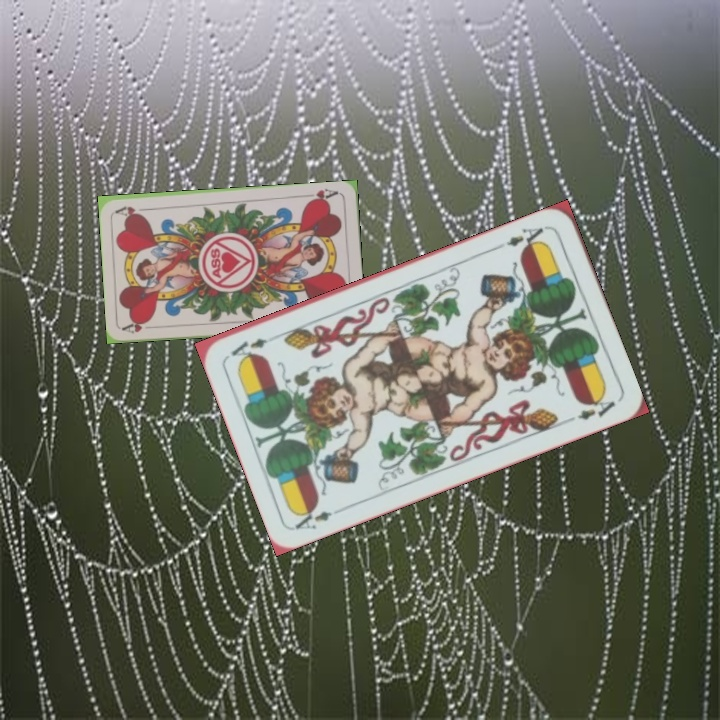EA: (291, 502, 348, 533), (502, 221, 551, 253)
HA: (301, 185, 342, 206), (120, 317, 161, 336)
